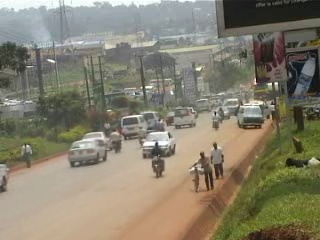Car: (65, 136, 108, 166), (140, 128, 177, 158), (79, 128, 115, 156), (172, 105, 196, 130), (214, 103, 233, 119), (165, 109, 177, 127), (186, 103, 198, 120)
Motorcycle: (149, 142, 166, 178), (109, 123, 123, 154), (211, 108, 220, 132), (154, 116, 166, 132), (215, 105, 225, 123)
